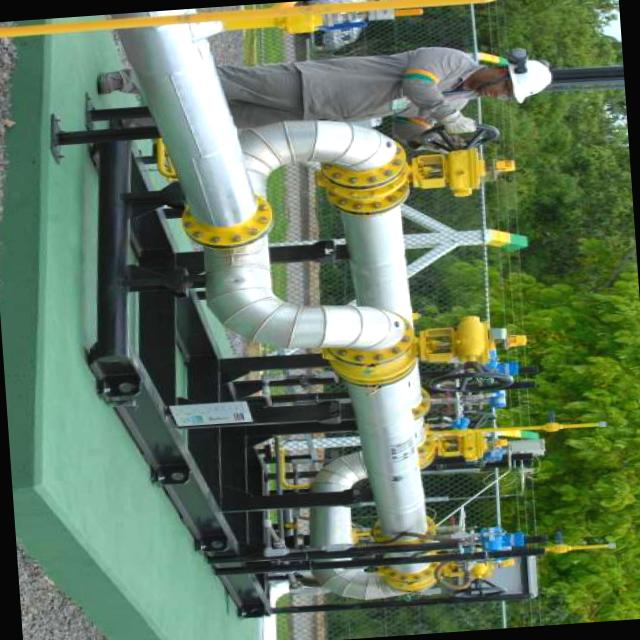gas: (97, 5, 262, 243), (334, 352, 441, 578), (195, 242, 407, 351), (235, 120, 399, 196), (334, 172, 418, 304)
